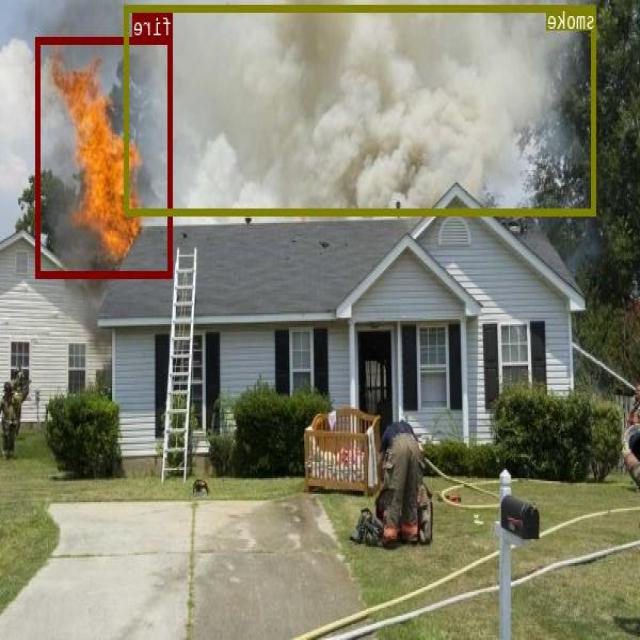fire: (36, 36, 174, 276)
smoke: (126, 4, 596, 215)
